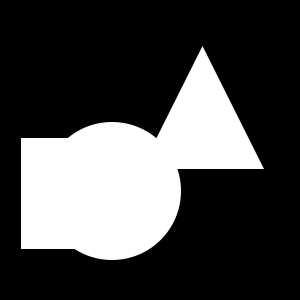circle: (21, 138, 132, 249)
rectangle: (43, 122, 181, 260)
triangle: (141, 46, 264, 169)
